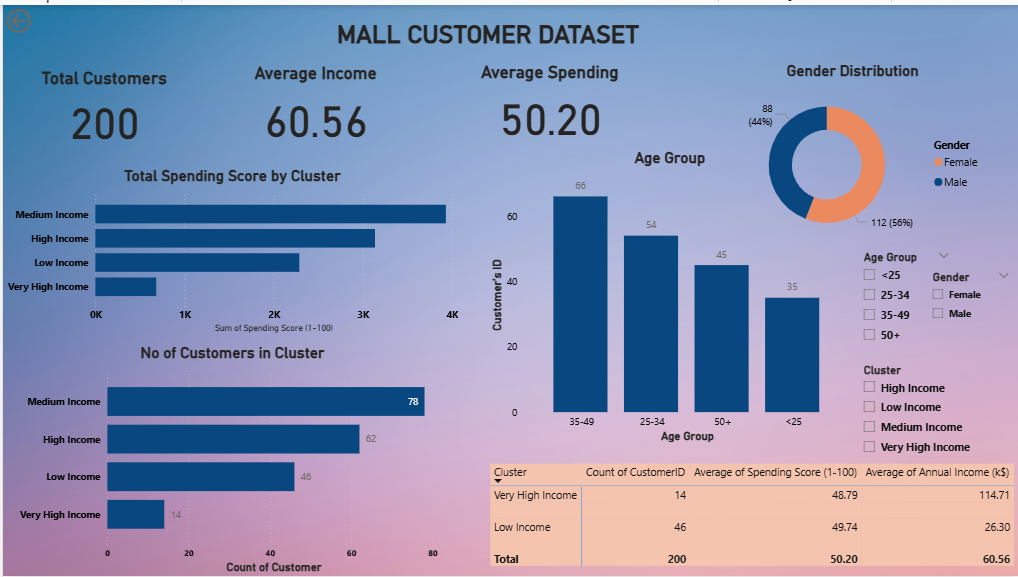

This screenshot's page, from the dashboard's own definition file:
{"tool":"powerbi","page":{"name":"Page 1","canvas":[1280,720],"ordinal":0},"visuals":[{"type":"card","title":"Total Customers","fields":{"Values":["CountNonNull(Mall_Customers.CustomerID)"]},"box":[30.2,79.4,194.6,102],"z":0},{"type":"card","title":"Average Income","fields":{"Values":["Avg(Mall_Customers.Annual Income (k$))"]},"box":[274,73.7,240,107.7],"z":1000},{"type":"card","title":"Average Spending","fields":{"Values":["Avg(Mall_Customers.Spending Score (1-100))"]},"box":[563.2,71.8,251.3,107.7],"z":2000},{"type":"donutChart","title":"Gender Distribution","fields":{"Category":["Mall_Customers.Gender"],"Y":["CountNonNull(Mall_Customers.CustomerID)"]},"box":[897.6,71.8,345.8,236.2],"z":3000},{"type":"pivotTable","fields":{"Values":["CountNonNull(Mall_Customers.CustomerID)","Avg(Mall_Customers.Spending Score (1-100))","Avg(Mall_Customers.Annual Income (k$))"],"Rows":["Mall_Customers.Cluster"]},"box":[608.5,572.6,670.9,147.4],"z":4000},{"type":"barChart","title":"No of Customers in Cluster","fields":{"Category":["Mall_Customers.Cluster"],"Y":["CountNonNull(Mall_Customers.CustomerID)"]},"box":[15.1,427.1,548,292.9],"z":5000},{"type":"actionButton","box":[0,0,100,40],"z":6000},{"type":"clusteredColumnChart","title":"Age Group","fields":{"Category":["Mall_Customers.Age Group"],"Y":["Count(Mall_Customers.CustomerID)"]},"box":[608.5,181.4,463,374.2],"z":7000},{"type":"barChart","title":"Total Spending Score by Cluster","fields":{"Category":["Mall_Customers.Cluster"],"Y":["Sum(Mall_Customers.Spending Score (1-100))"]},"box":[0,204.1,578.3,213.5],"z":8000},{"type":"slicer","fields":{"Values":["Mall_Customers.Age Group"]},"box":[1071.5,304.3,132.3,141.7],"z":9000},{"type":"slicer","fields":{"Values":["Mall_Customers.Gender"]},"box":[1158.4,328.8,120.9,98.3],"z":10000},{"type":"slicer","fields":{"Values":["Mall_Customers.Cluster"]},"box":[1071.5,446,202.2,138],"z":11000},{"type":"textbox","title":"MALL CUSTOMER DATASET","box":[415.8,18.9,614.2,41.6],"z":12000}]}

Visuals, with their boxes in screenshot pixels (x1, y1, x2, y2), scaled from the page's 1280x720 canvas onto the 1018x577 screenshot:
"Total Customers" card: 24/64/179/145
"Average Income" card: 218/59/409/145
"Average Spending" card: 448/58/648/144
"Gender Distribution" donutChart: 714/58/989/247
pivotTable - CountNonNull(Mall_Customers.CustomerID) x Avg(Mall_Customers.Spending Score (1-100)): 484/459/1017/576
"No of Customers in Cluster" barChart: 12/342/448/576
actionButton: 0/0/80/32
"Age Group" clusteredColumnChart: 484/145/852/445
"Total Spending Score by Cluster" barChart: 0/164/460/335
slicer - Mall_Customers.Age Group: 852/244/957/357
slicer - Mall_Customers.Gender: 921/263/1017/342
slicer - Mall_Customers.Cluster: 852/357/1013/468
"MALL CUSTOMER DATASET" textbox: 331/15/819/48
